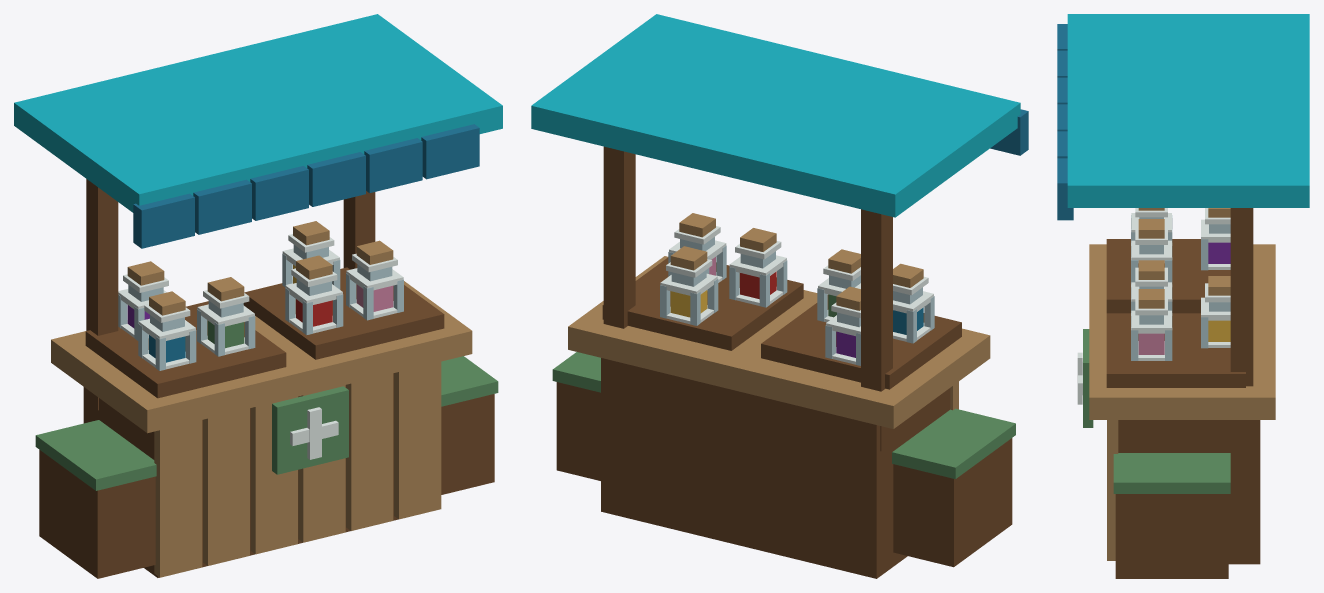
File: potion_stall.glb
3 renders of one model, left to right at view 1: azimuth 30°, elevation 25°; view 2: azimuth 150°, elevation 25°; view 3: azimuth 270°, elevation 25°, orthographic. The views are drawn at different scales.
Visible parts, largest first — view 1: potion_stall; view 2: potion_stall; view 3: potion_stall.
Part boxes in pixels (x1,y1,x2,y2): potion_stall: (14, 14, 502, 578); potion_stall: (531, 14, 1028, 578); potion_stall: (1057, 14, 1309, 578).
Size of the model in its own units: 2.19 by 2.15 by 1.23.
